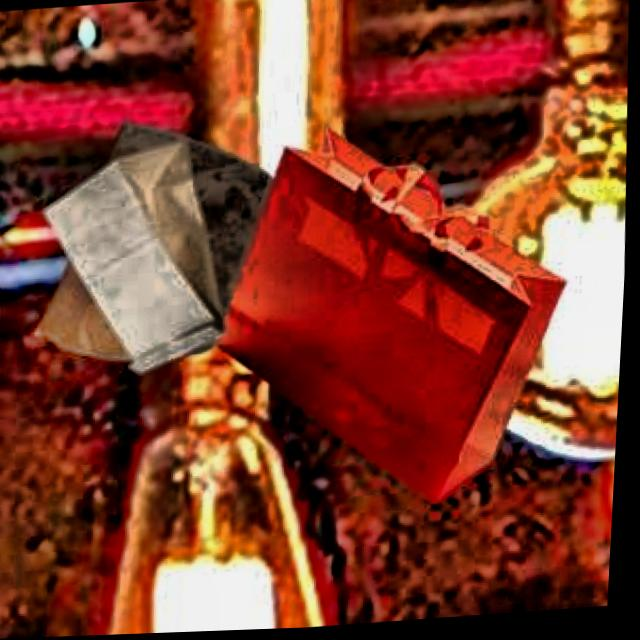Paper-bag: (193, 117, 582, 549), (28, 93, 301, 419), (55, 126, 253, 365)
